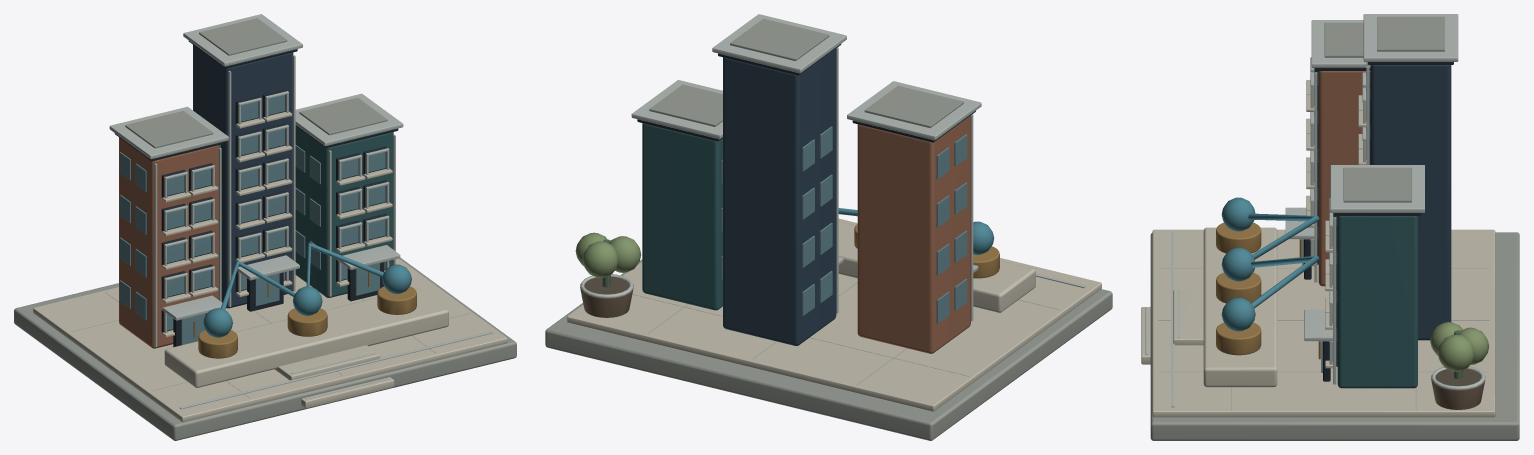
File: idea-78cffac8.glb
3 renders of one model, left to right at view 1: azimuth 30°, elevation 25°; view 2: azimuth 150°, elevation 25°; view 3: azimuth 270°, elevation 25°, orthographic. The views are drawn at different scales.
Visible parts, largest first — view 1: Webroker; view 2: Webroker; view 3: Webroker.
Part boxes in pixels (x1,y1,x2,y2): Webroker: (14, 14, 516, 440); Webroker: (545, 14, 1112, 440); Webroker: (1141, 14, 1519, 440).
Size of the model in its own units: 4.8 by 3.72 by 4.
